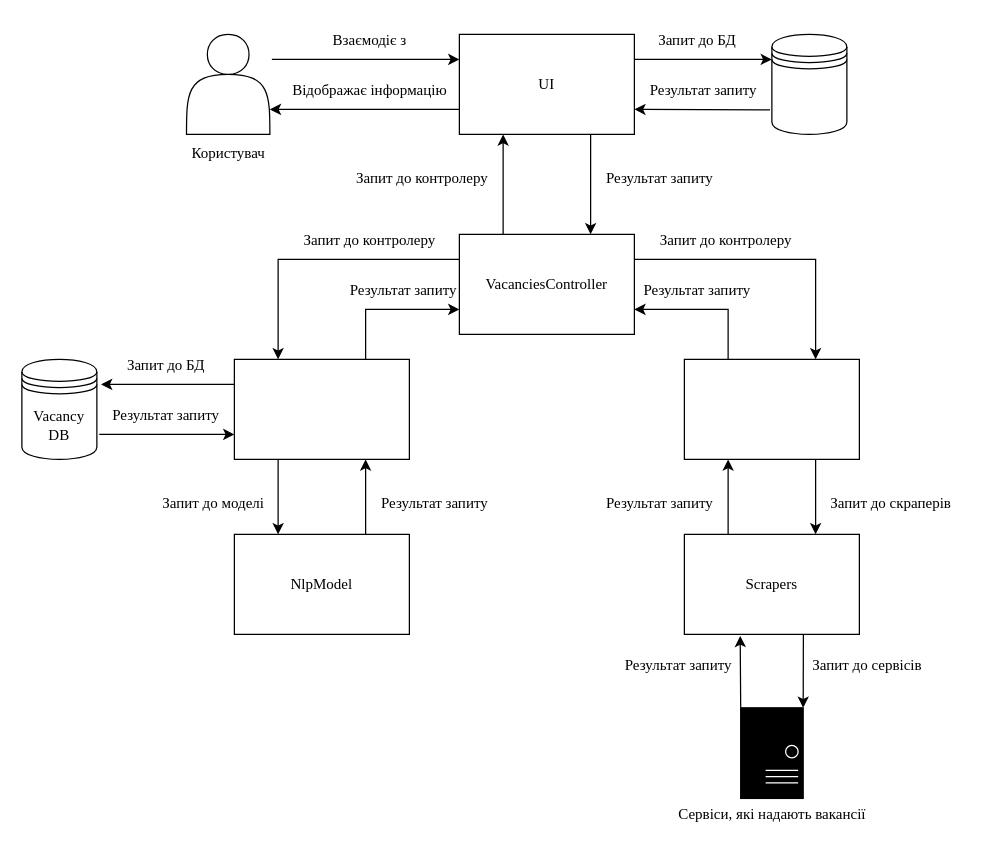
The diagram is 988 pixels wide and 854 high, and some of its shapes have lost their labels. The centre of each missing label's shape, as x and y in pixels:
"Local Vacancy DB" belongs at point (809, 83).
"ScrapeManager" belongs at point (771, 408).
"SkillsController" belongs at point (321, 408).
